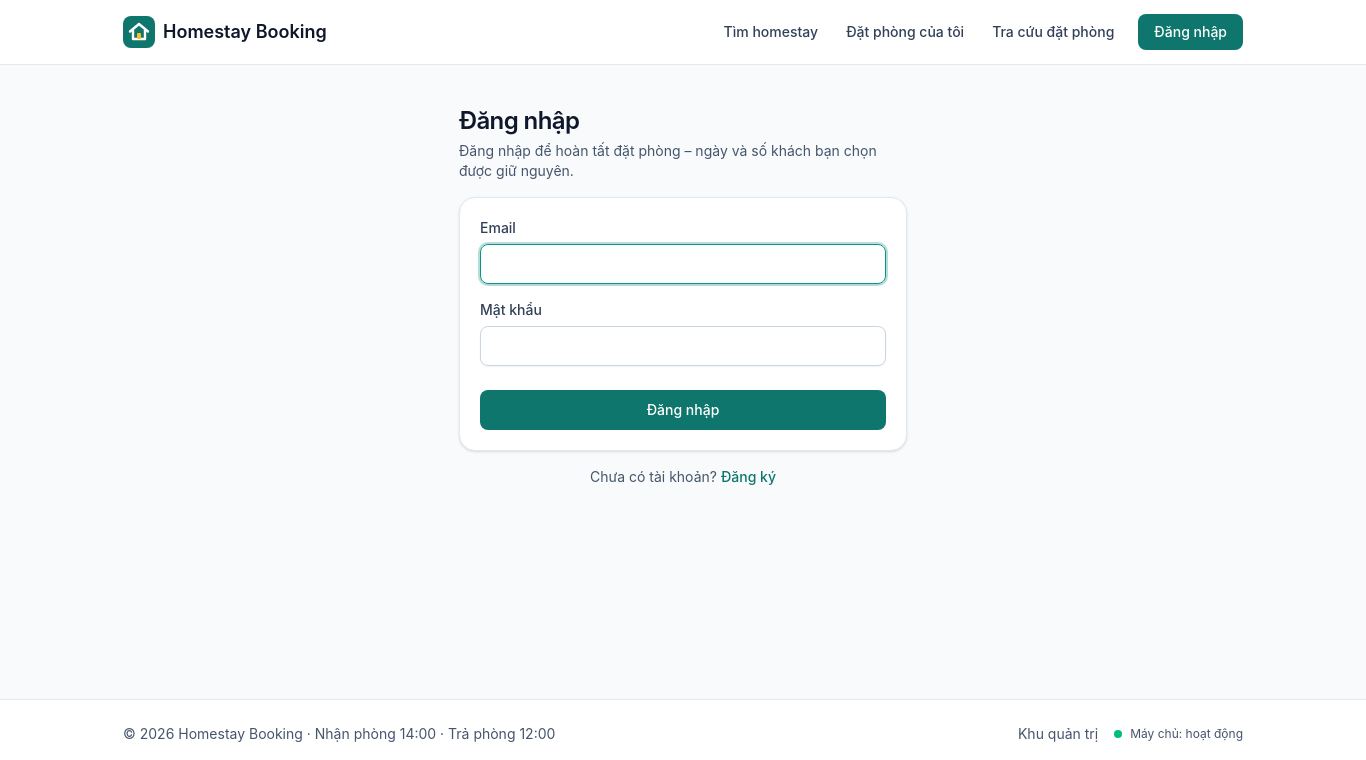
it: đặt phòng › chưa đăng nhập → /login giữ nguyên ngày; đăng nhập xong quay lại đúng trang đặt
Expected: the heading "Đăng nhập" is shown, [459,106,579,135]
Expected: the text "ngày và số khách bạn chọn được giữ nguyên" is shown, [459,142,877,179]
Type "an@example.com" into the field labelled "Email".
click(683, 264); type("an@example.com")  # box [480,244,886,284]
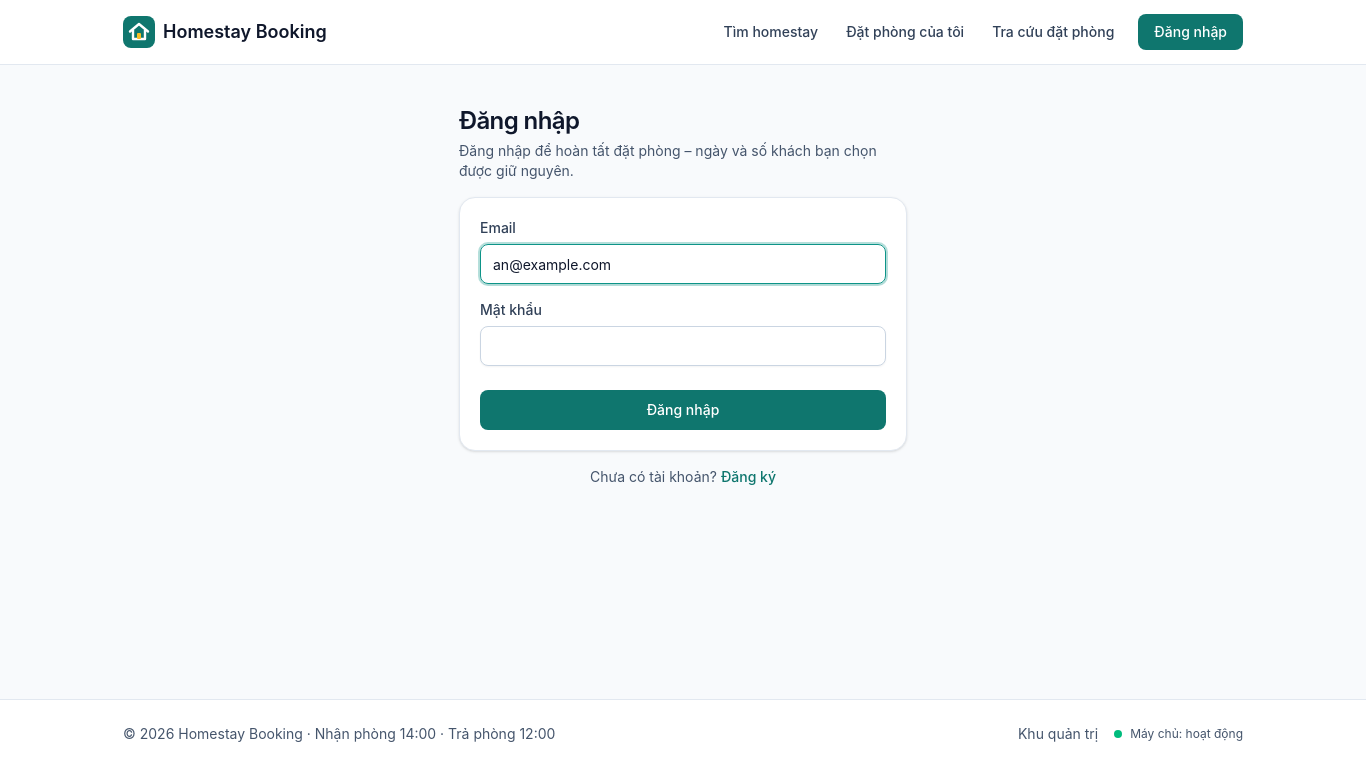
Type "matkhau123" into the password field labelled "Mật khẩu".
click(683, 346); type("matkhau123")  # box [480,326,886,366]
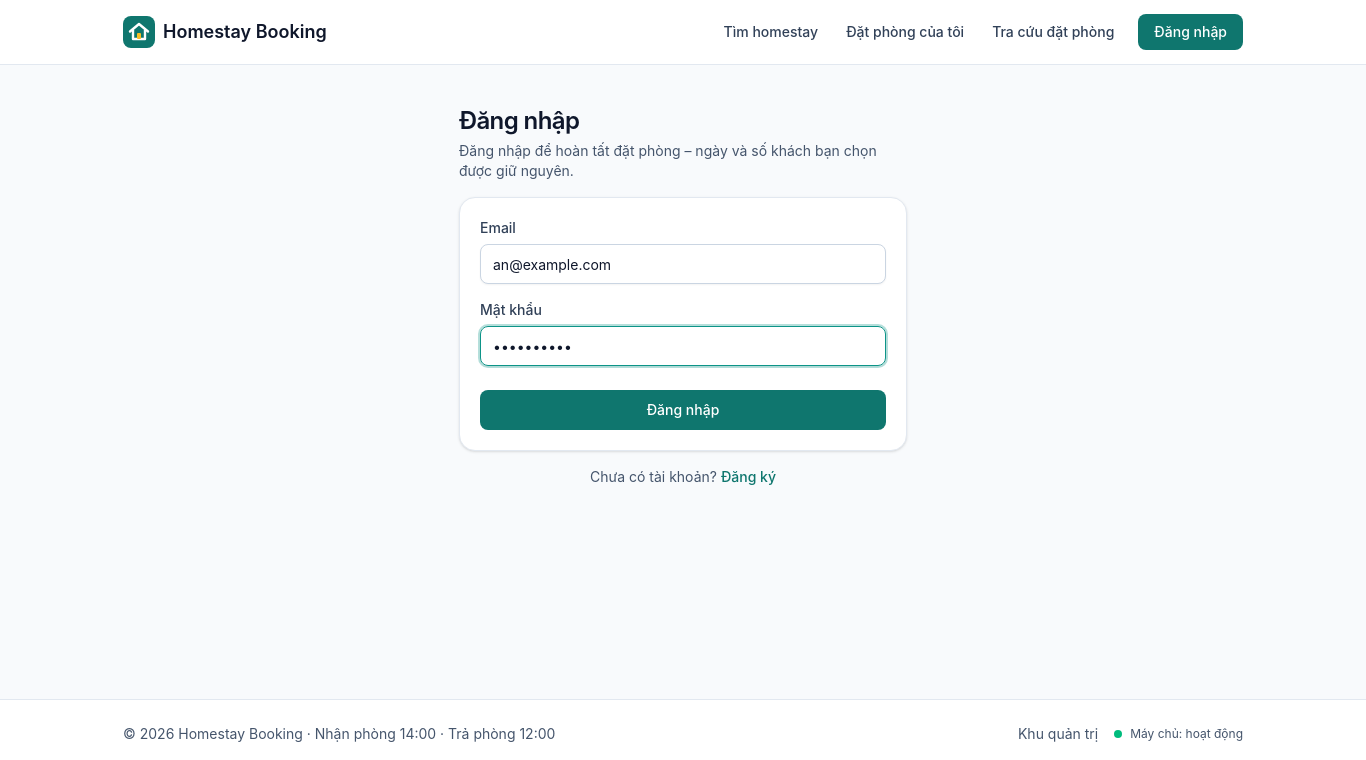
Click the button "Đăng nhập".
click(683, 410)  # box [480,390,886,430]
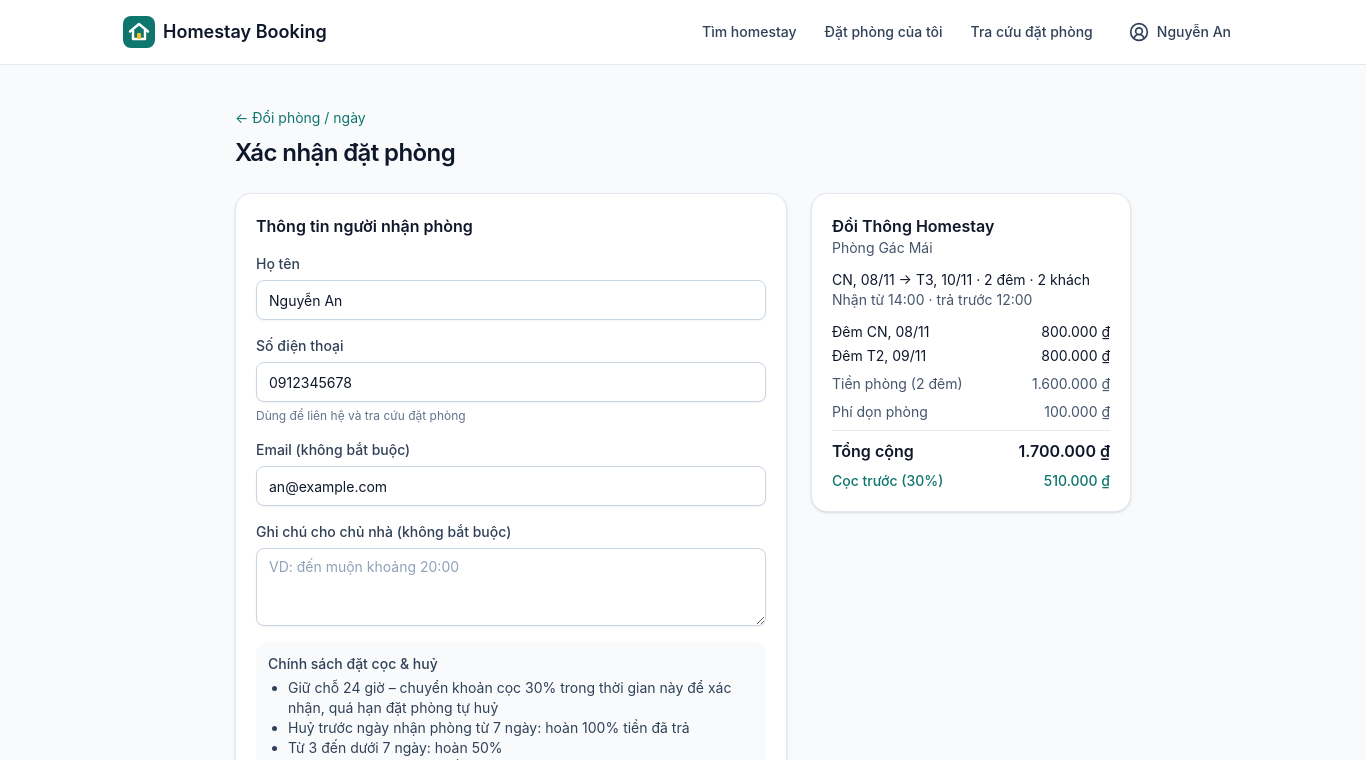
Expected: the heading "Xác nhận đặt phòng" is shown, [235,138,455,167]
